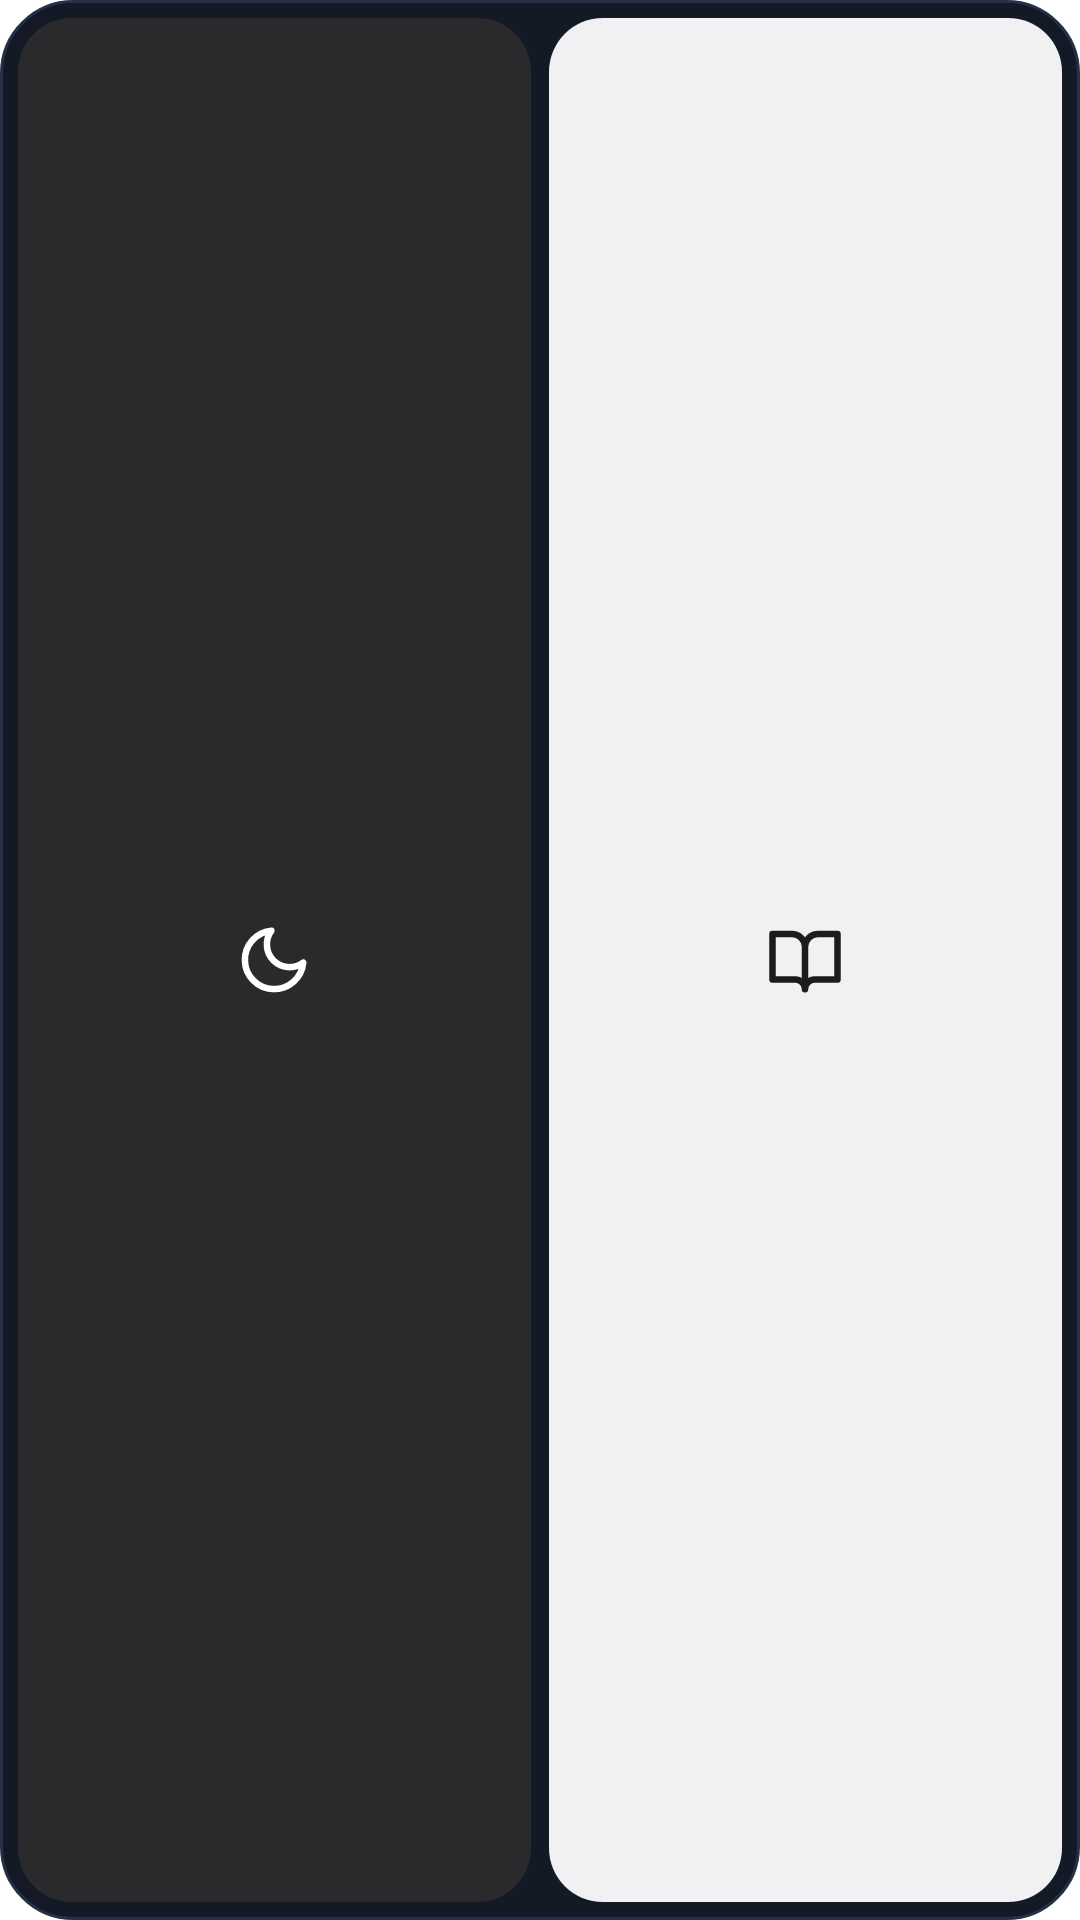

Point at icon controls on the screen. Image size 1080 × 1920, points as point (x, y).
Add reading session: point (805, 961)
Add sleep session: point (274, 960)
